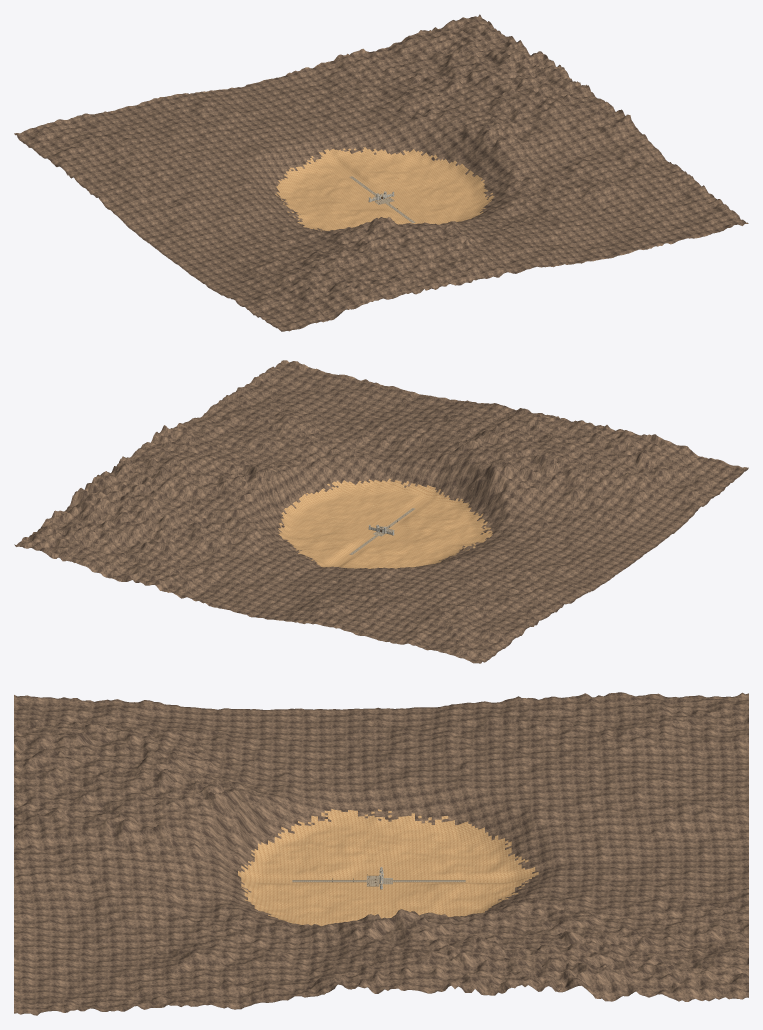
Rendered from oman_gate.glb.
3 renders of one model, top to bottom at view 1: azimuth 30°, elevation 25°; view 2: azimuth 150°, elevation 25°; view 3: azimuth 270°, elevation 25°, orthographic. The views are drawn at different scales.
Visible parts, largest first — view 1: Terrain; view 2: Terrain; view 3: Terrain, Gate_Static.
Boxes of the visible parts, box(x1,y1,x2,y2) form: Terrain: box(14, 14, 748, 331); Terrain: box(14, 360, 748, 663); Terrain: box(14, 692, 748, 1015); Gate_Static: box(292, 867, 465, 889).
Size of the model in its own units: 1400 by 119 by 1400.
11 materials, 6 textured.
